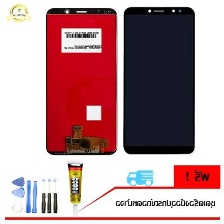phone: (43, 6, 120, 160), (121, 5, 198, 157)
